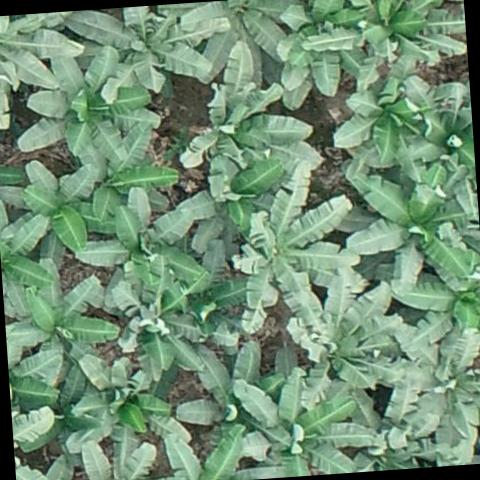Banana-plant: (228, 154, 370, 324), (11, 41, 160, 169), (172, 39, 314, 170), (344, 163, 474, 297), (235, 363, 381, 480), (64, 1, 234, 96), (281, 266, 403, 390), (174, 339, 290, 466), (72, 188, 200, 298), (1, 264, 122, 376), (304, 0, 468, 79), (160, 0, 303, 86), (369, 325, 480, 435), (176, 148, 288, 253), (114, 258, 211, 374), (0, 159, 111, 257), (0, 11, 87, 127), (330, 73, 430, 170), (79, 120, 182, 214), (68, 350, 172, 441), (275, 0, 368, 101), (397, 255, 480, 359), (404, 72, 476, 170), (0, 196, 53, 308)
